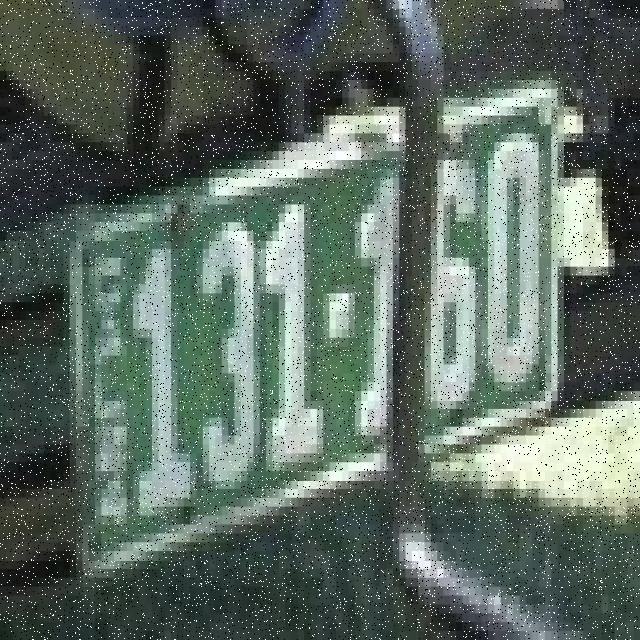licenseplate: (58, 48, 602, 598)
